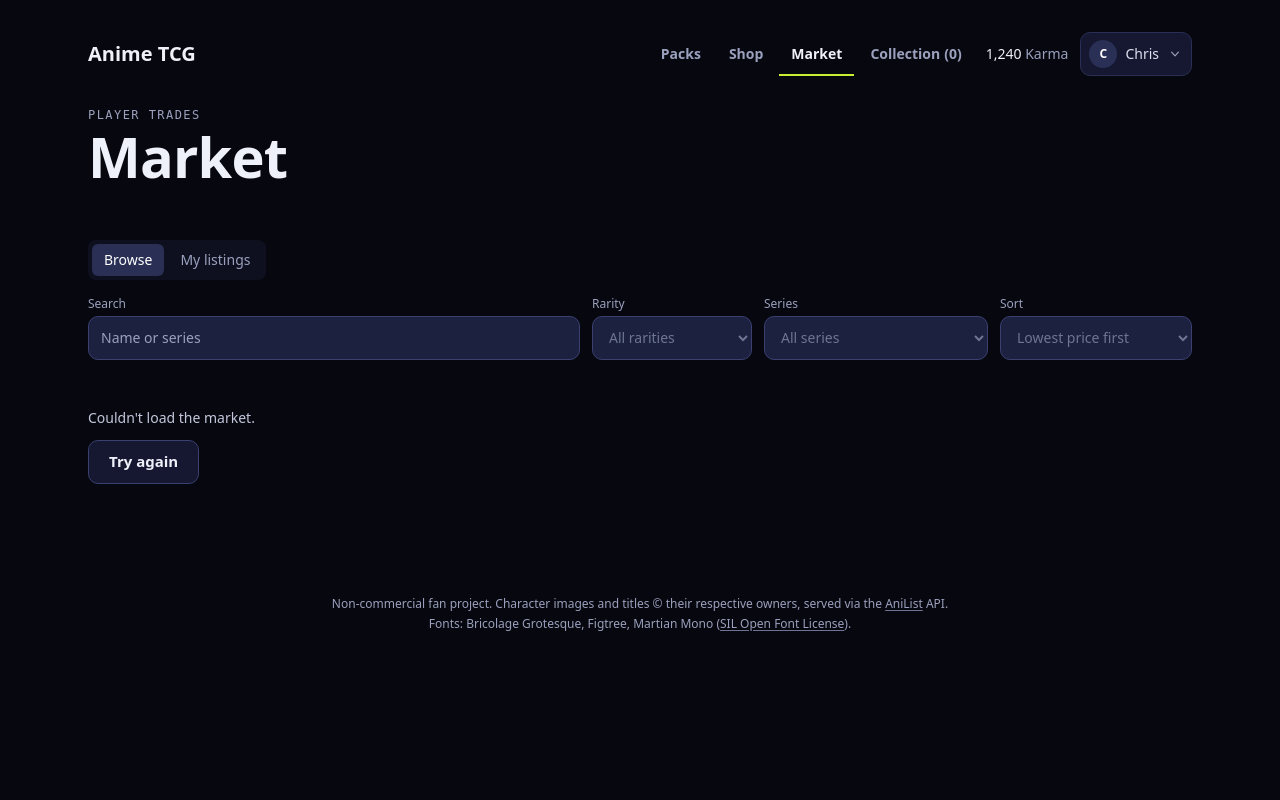
Test case: /market: Browse (market-and-shop.md §3.4) › Couldn't load the market. with nothing held, and Try again loads it
Expected: the text "Couldn't load the market." is shown, [88,408,255,428]
Click the button "Try again".
click(144, 462)  # box [88,440,199,484]
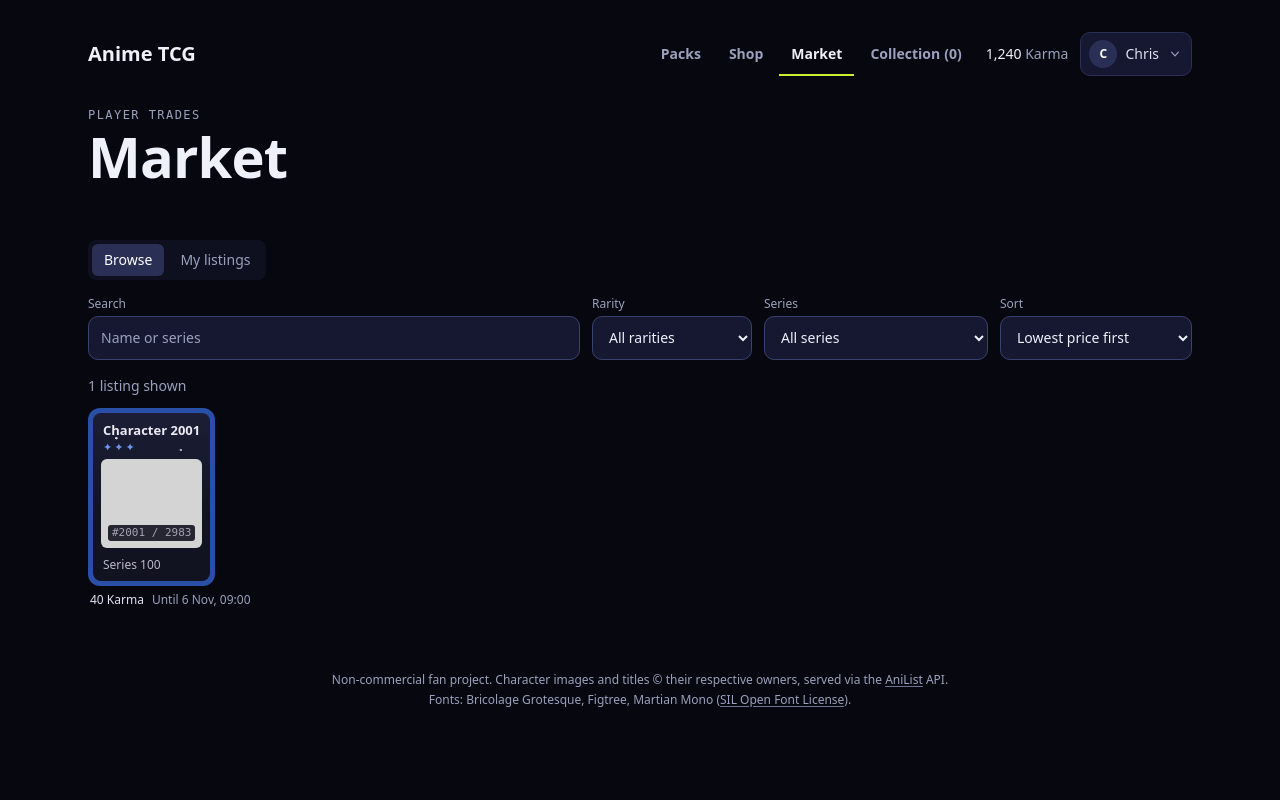
Expected: the text "1 listing shown" is shown, [88,376,186,395]
